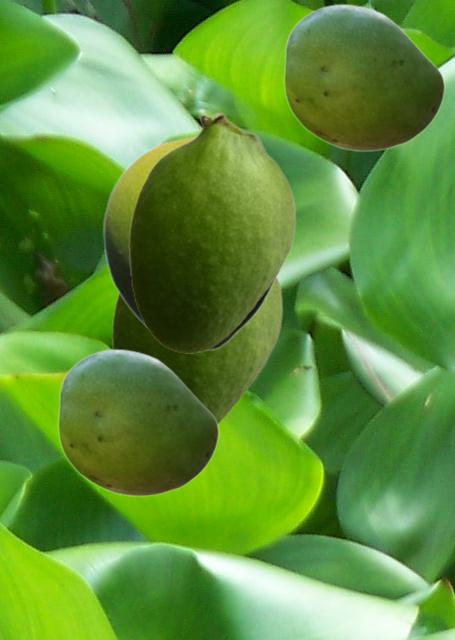green_mango: (128, 111, 295, 352), (102, 135, 282, 351), (111, 275, 282, 426), (57, 348, 218, 496), (283, 3, 444, 151)
